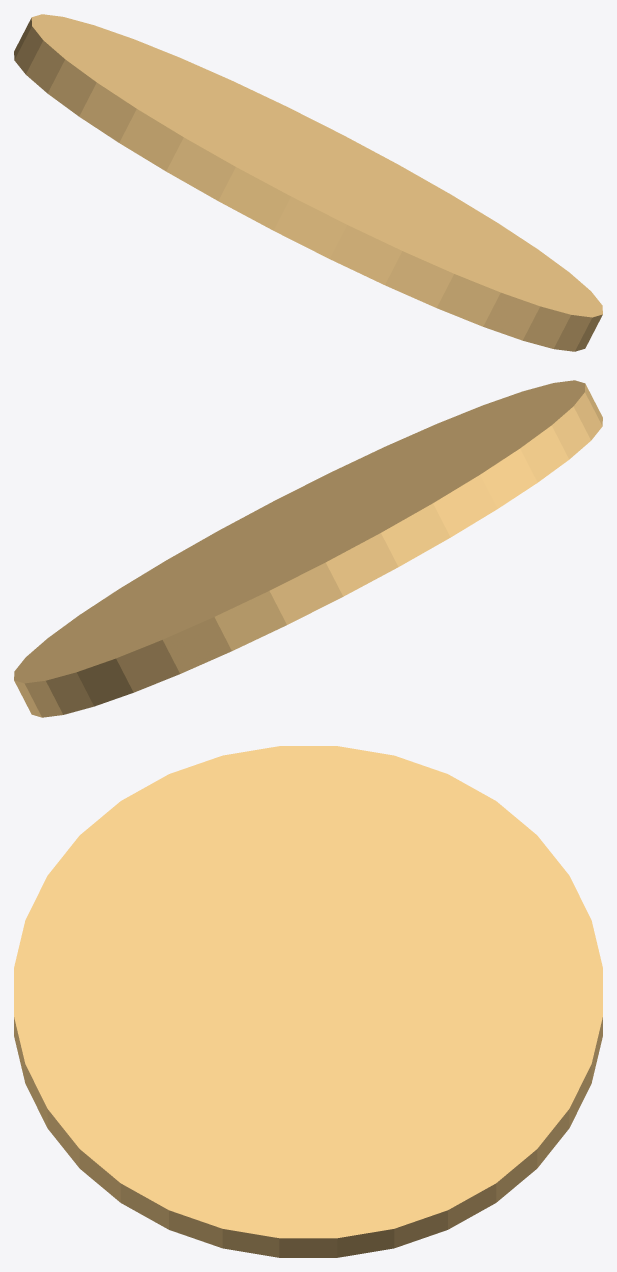
File: pioneer_t6_Pioneer_p3dx_visible_vis_22.dae
3 views of the same model, one above another, from view 1: azimuth 30°, elevation 25°; view 2: azimuth 150°, elevation 25°; view 3: azimuth 270°, elevation 25° (orthographic). The views are drawn at different scales.
Parts seen in each view (by area): view 1: Node_0x75886572fa60; view 2: Node_0x75886572fa60; view 3: Node_0x75886572fa60.
Boxes of the visible parts, x1,y1,x2,y2 form: Node_0x75886572fa60: (14, 14, 602, 351); Node_0x75886572fa60: (14, 380, 602, 717); Node_0x75886572fa60: (14, 746, 602, 1257).
Bounding box in the file's own units: 0.0313 × 0.0205 × 0.0355.
